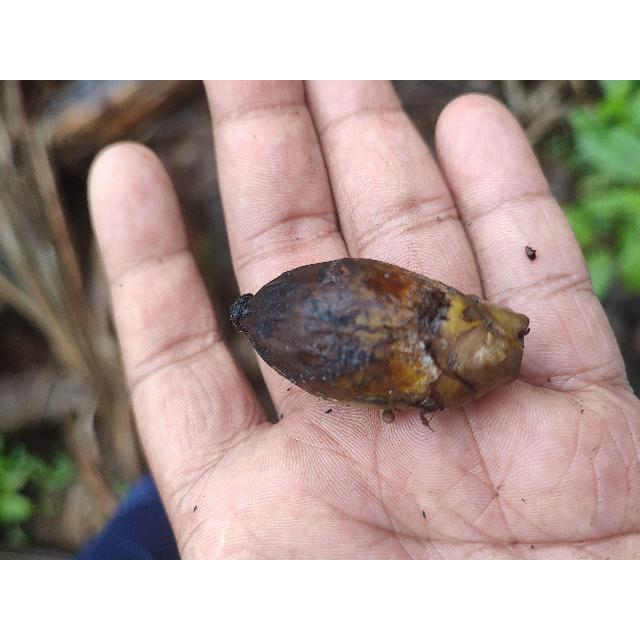damaged: (224, 258, 531, 416)
